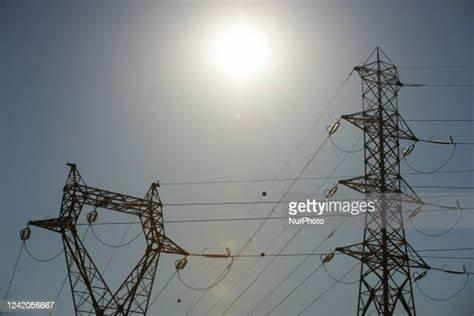power_tower: (314, 46, 433, 316), (18, 162, 195, 316)
